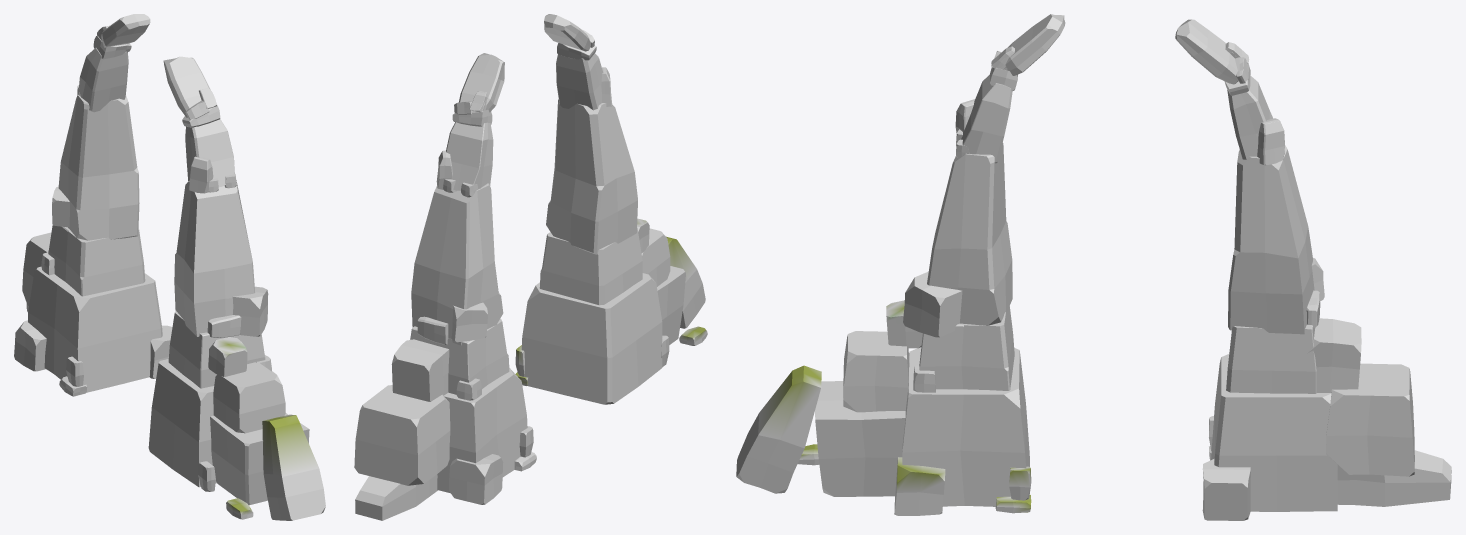
Rendered from Portal2.fbx.
3 views of the same model, side by side, from view 1: azimuth 30°, elevation 25°; view 2: azimuth 150°, elevation 25°; view 3: azimuth 270°, elevation 25° (orthographic). The views are drawn at different scales.
Parts seen in each view (by area): view 1: Cube, Cube.003, Cube.021, Cube.018, Cube.022, Cube.001, Cube.040, Cube.039, Cube.019, Cube.005, Cube.023, Cube.033 (+14 smaller); view 2: Cube.018, Cube.021, Cube.003, Cube.037, Cube, Cube.019, Cube.001, Cube.038, Cube.005, Cube.004, Cube.023, Cube.007 (+12 smaller); view 3: Cube, Cube.018, Cube.003, Cube.021, Cube.037, Cube.039, Cube.022, Cube.019, Cube.001, Cube.040, Cube.004, Cube.038 (+9 smaller).
Part boxes in pixels (box(x1,y1,x2,y2)): Cube: box(28, 266, 162, 392); Cube.003: box(58, 95, 139, 240); Cube.021: box(174, 179, 255, 336); Cube.018: box(148, 359, 276, 487); Cube.022: box(262, 414, 325, 520); Cube.001: box(48, 225, 145, 296); Cube.040: box(213, 362, 285, 433); Cube.039: box(210, 413, 309, 505); Cube.019: box(168, 311, 265, 388); Cube.005: box(79, 48, 128, 112); Cube.023: box(185, 119, 234, 187); Cube.033: box(163, 56, 210, 117); Cube.018: box(521, 273, 662, 404); Cube.021: box(546, 99, 637, 254); Cube.003: box(411, 183, 503, 345); Cube.037: box(354, 385, 450, 485); Cube: box(437, 368, 527, 493); Cube.019: box(539, 227, 642, 305); Cube.001: box(410, 319, 509, 394); Cube.038: box(391, 339, 449, 401); Cube.005: box(446, 122, 493, 190); Cube.004: box(355, 474, 437, 520); Cube.023: box(556, 53, 603, 110); Cube.007: box(449, 454, 503, 504); Cube: box(1211, 354, 1337, 511); Cube.018: box(902, 348, 1029, 506); Cube.003: box(1228, 145, 1314, 334); Cube.021: box(927, 142, 1012, 325); Cube.037: box(1326, 363, 1414, 476); Cube.039: box(815, 381, 905, 496); Cube.022: box(736, 365, 821, 493); Cube.019: box(919, 306, 1014, 390); Cube.001: box(1226, 324, 1316, 393); Cube.040: box(843, 331, 909, 412); Cube.004: box(1337, 450, 1451, 506); Cube.038: box(1307, 318, 1361, 392).
Size of the model in its own units: 273 by 844 by 1167.
